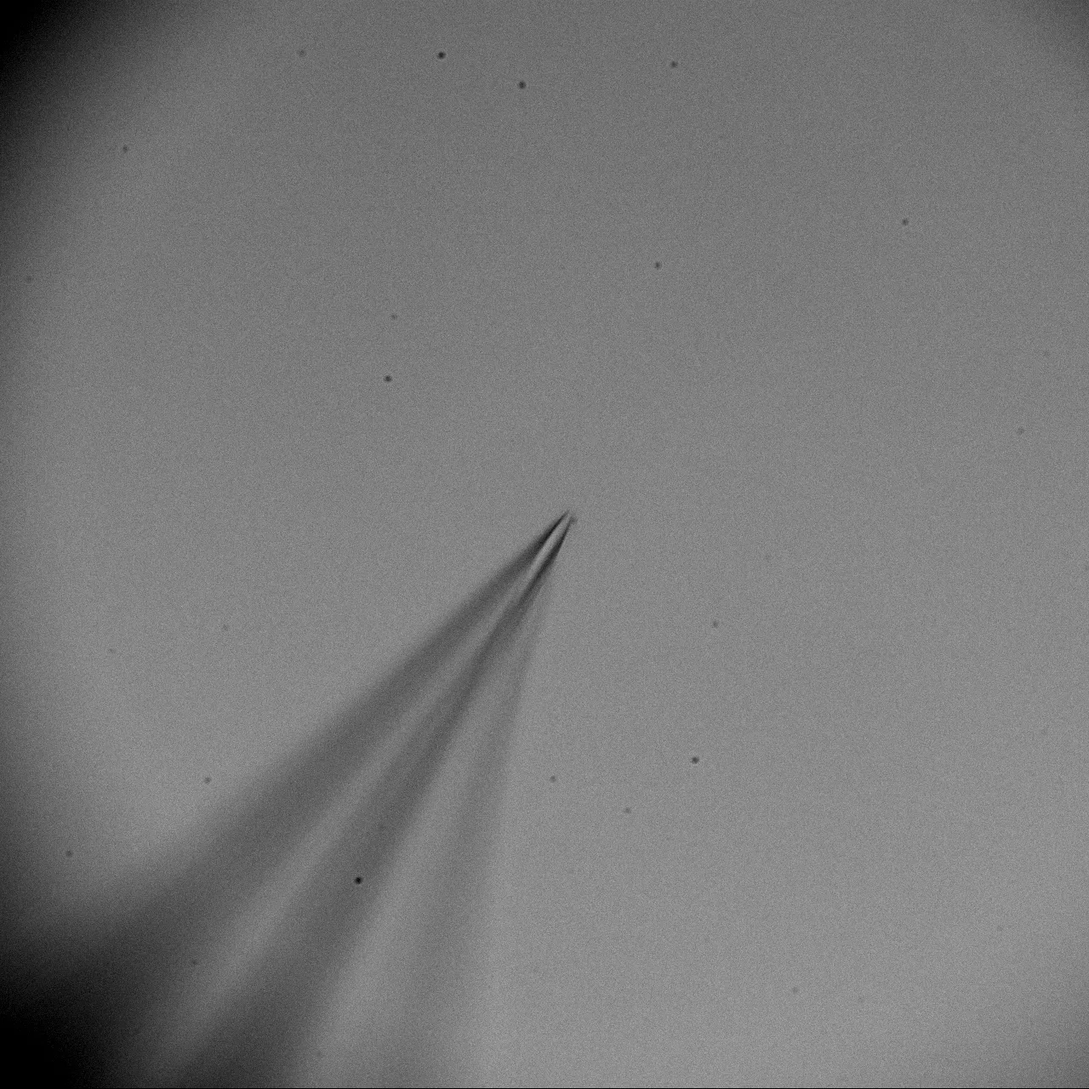tip: (500, 505, 583, 628)
